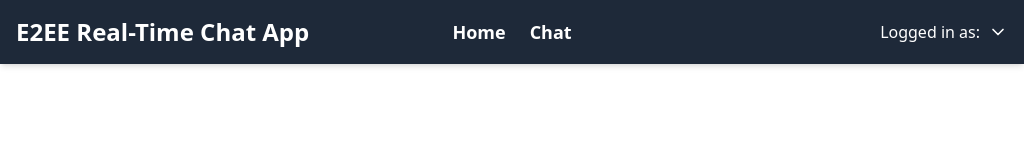
Navbar.tsx tests › should toggle the dropdown menu when the username is clicked
The width and height of the screenshot is (1024, 160).
Click the button "Logged in as:".
click(944, 32)  # box [880,20,1008,44]
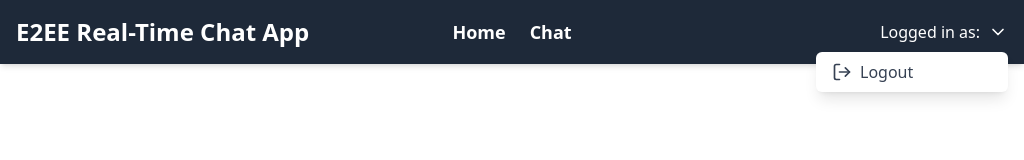
Expected: the button "Logout" is shown, [816,52,1008,92]
Click the button "Logged in as:".
click(944, 32)  # box [880,20,1008,44]
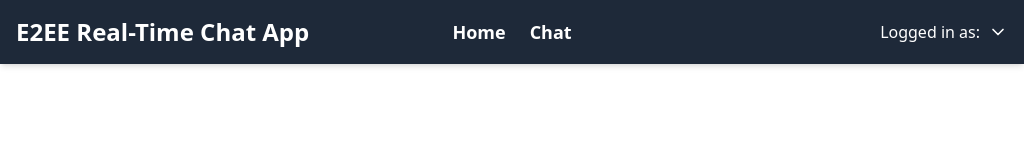
Expected: the button "Logout" is gone
